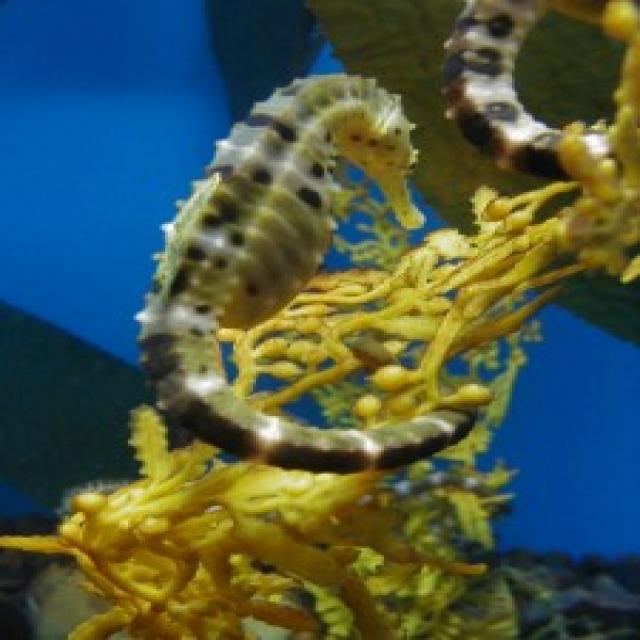Seahorse: (131, 72, 495, 478)
